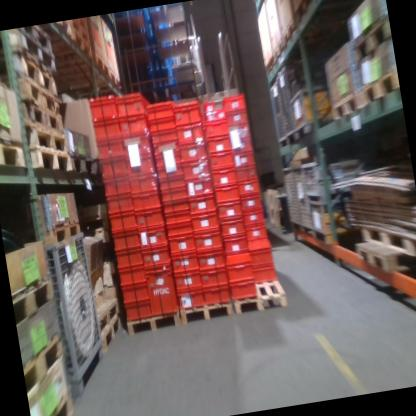pallet: (19, 329, 70, 396), (354, 209, 416, 264), (9, 271, 60, 336), (229, 270, 289, 318), (352, 62, 403, 118), (357, 234, 413, 281), (345, 13, 394, 63), (125, 301, 183, 341), (9, 28, 55, 71), (178, 294, 234, 328), (85, 289, 124, 337), (17, 75, 60, 118), (23, 118, 69, 157), (15, 52, 57, 94), (0, 124, 30, 178), (29, 141, 73, 176), (28, 384, 74, 416), (24, 101, 66, 135), (94, 314, 125, 355), (67, 148, 99, 185), (329, 89, 361, 124), (291, 0, 331, 23), (278, 19, 303, 53), (23, 24, 51, 52), (72, 31, 95, 62), (93, 51, 110, 84), (271, 38, 287, 70), (107, 65, 124, 95), (72, 20, 91, 46)
small_load_carrier: (144, 268, 179, 316), (88, 94, 121, 126), (114, 93, 147, 124), (226, 249, 254, 281), (194, 227, 226, 254), (247, 237, 274, 267), (136, 224, 170, 247), (122, 134, 152, 160), (191, 208, 223, 232), (141, 243, 173, 267), (173, 103, 202, 128), (94, 121, 124, 145), (106, 193, 136, 217), (177, 288, 208, 311), (130, 190, 162, 212), (108, 213, 138, 236), (111, 231, 141, 254), (122, 299, 152, 322), (99, 158, 130, 180), (229, 277, 257, 301), (201, 267, 229, 291), (180, 142, 208, 166), (168, 234, 197, 257), (97, 140, 127, 162), (134, 208, 165, 229), (127, 156, 155, 179), (187, 178, 217, 199), (114, 250, 145, 270), (203, 117, 231, 139), (177, 124, 205, 146), (120, 281, 148, 303), (252, 263, 278, 286), (174, 270, 201, 292), (197, 250, 225, 271), (130, 173, 158, 194), (201, 285, 230, 305), (103, 177, 132, 197), (214, 182, 240, 204), (189, 194, 219, 213), (120, 119, 150, 138), (211, 165, 238, 186), (118, 266, 147, 285), (204, 136, 234, 154), (184, 162, 211, 182), (207, 150, 235, 169), (171, 255, 199, 274), (150, 130, 179, 148), (220, 216, 246, 236), (224, 108, 249, 128), (218, 200, 243, 220), (235, 164, 259, 184), (143, 99, 175, 114), (156, 164, 184, 181), (220, 93, 246, 111), (160, 188, 189, 204), (224, 233, 248, 252), (145, 111, 175, 126), (162, 200, 190, 216), (164, 212, 192, 227), (166, 223, 194, 238), (240, 192, 263, 210), (233, 151, 257, 168), (155, 153, 182, 168), (158, 177, 185, 192), (243, 208, 264, 227), (227, 125, 251, 141), (149, 121, 177, 134), (153, 144, 181, 157), (231, 138, 253, 154), (245, 224, 267, 240), (238, 181, 261, 196)
stillage: (43, 225, 114, 401), (273, 53, 329, 145), (300, 149, 373, 202), (286, 80, 346, 141), (305, 195, 352, 250), (287, 164, 313, 242), (279, 168, 302, 240), (265, 76, 288, 145)
